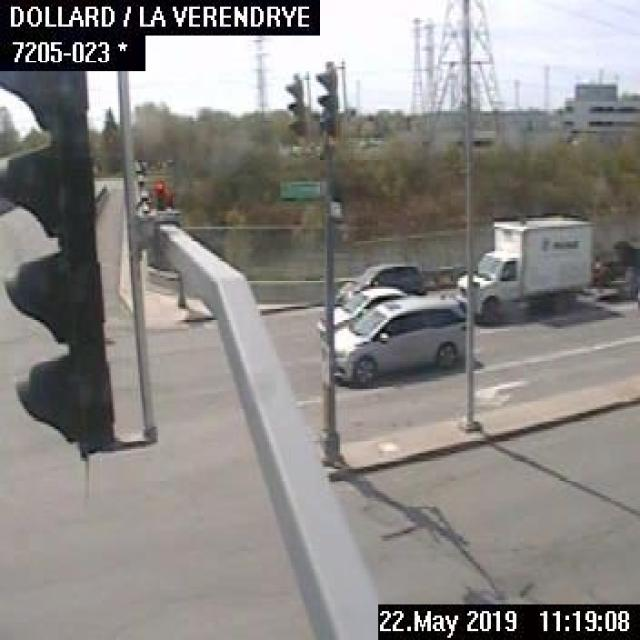vehicle: (471, 213, 591, 324), (331, 298, 464, 387), (316, 282, 411, 336), (332, 262, 428, 295)
